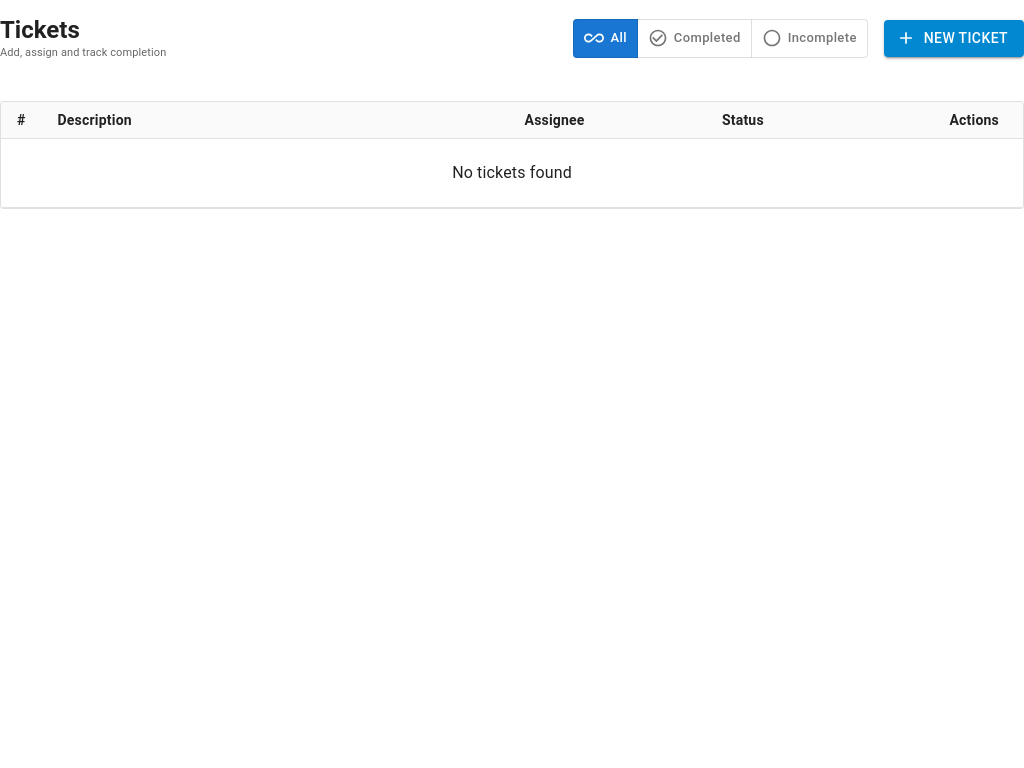
Test case: Create Ticket › should create a new ticket
Click the button "New Ticket".
click(954, 38)  # box [884,20,1023,56]
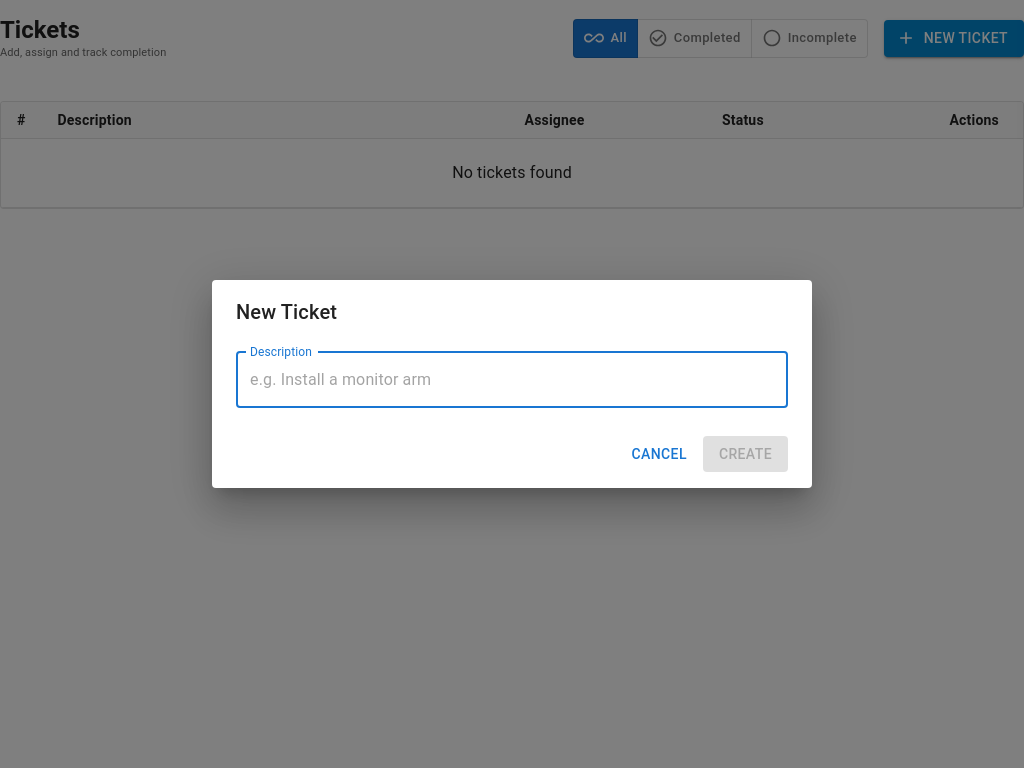
Type "Write unit tests" into the field labelled "Description".
click(512, 380); type("Write unit tests")  # box [236,352,788,408]
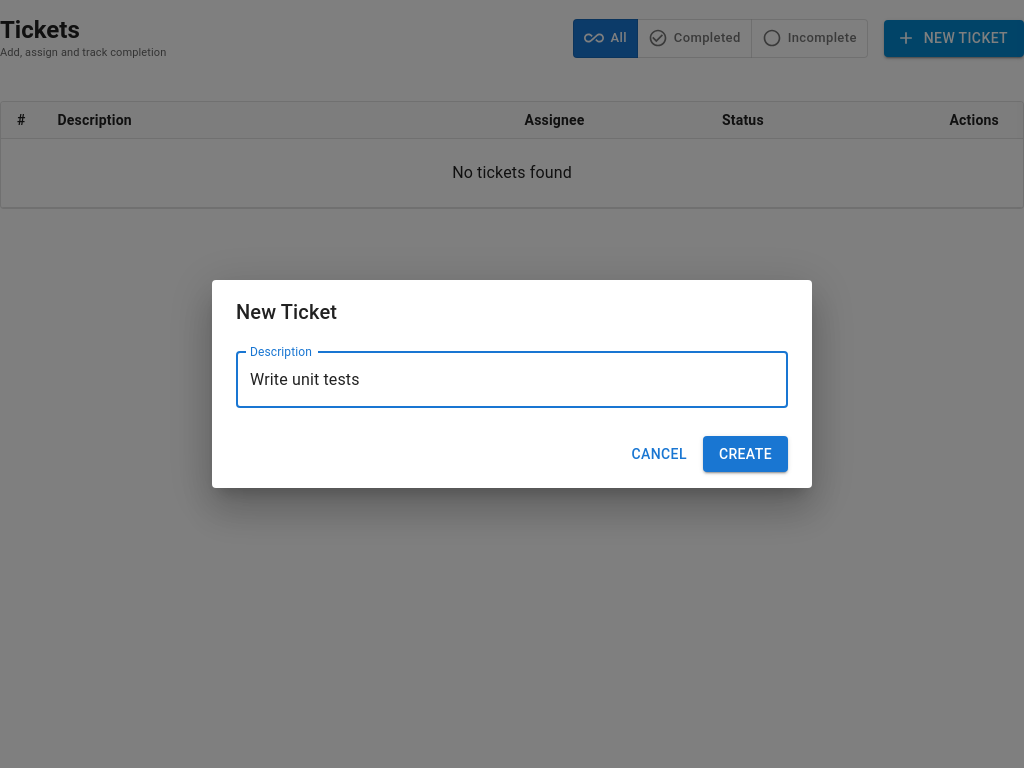
Click the button "Create".
click(745, 454)  # box [703,436,788,472]
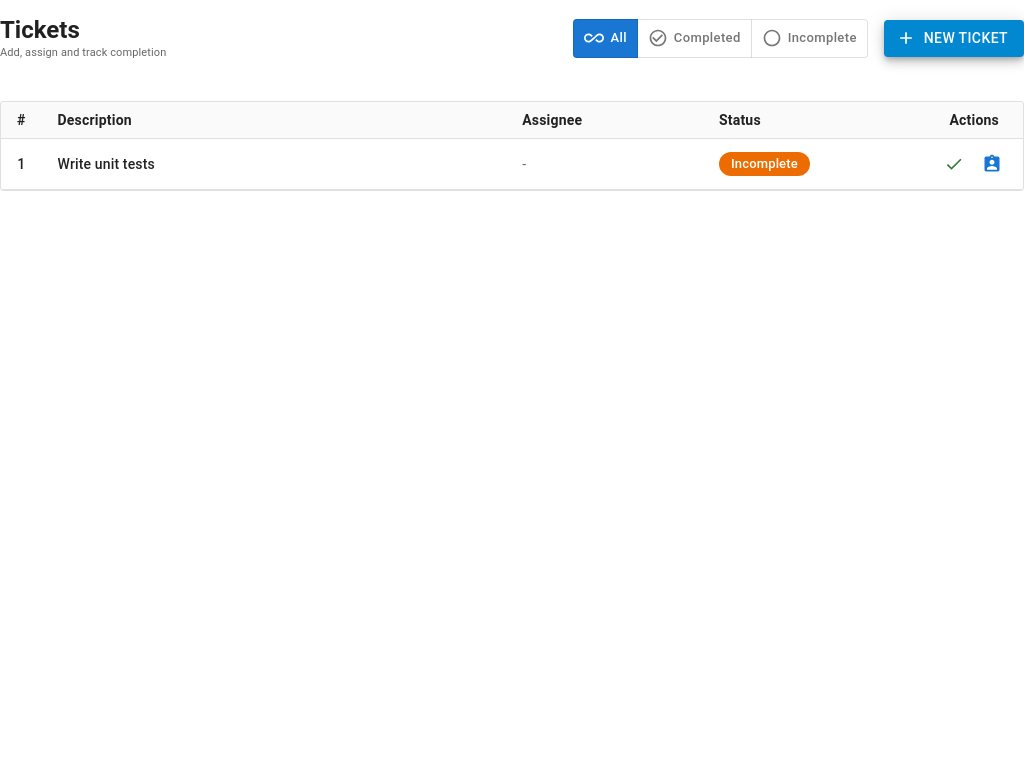
Result: the text "Write unit tests" is shown at [58,156,155,172]
